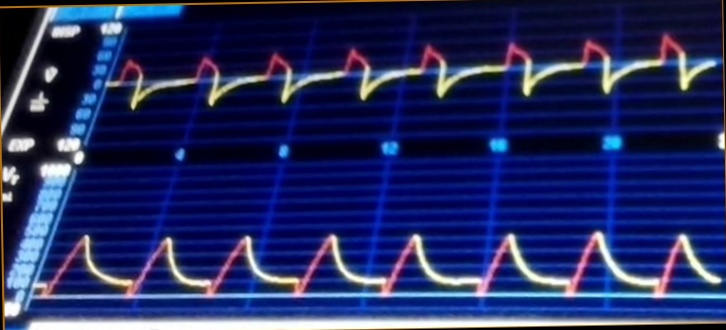Flow: (116, 32, 714, 129)
Leakage Volume: (34, 225, 726, 311)
